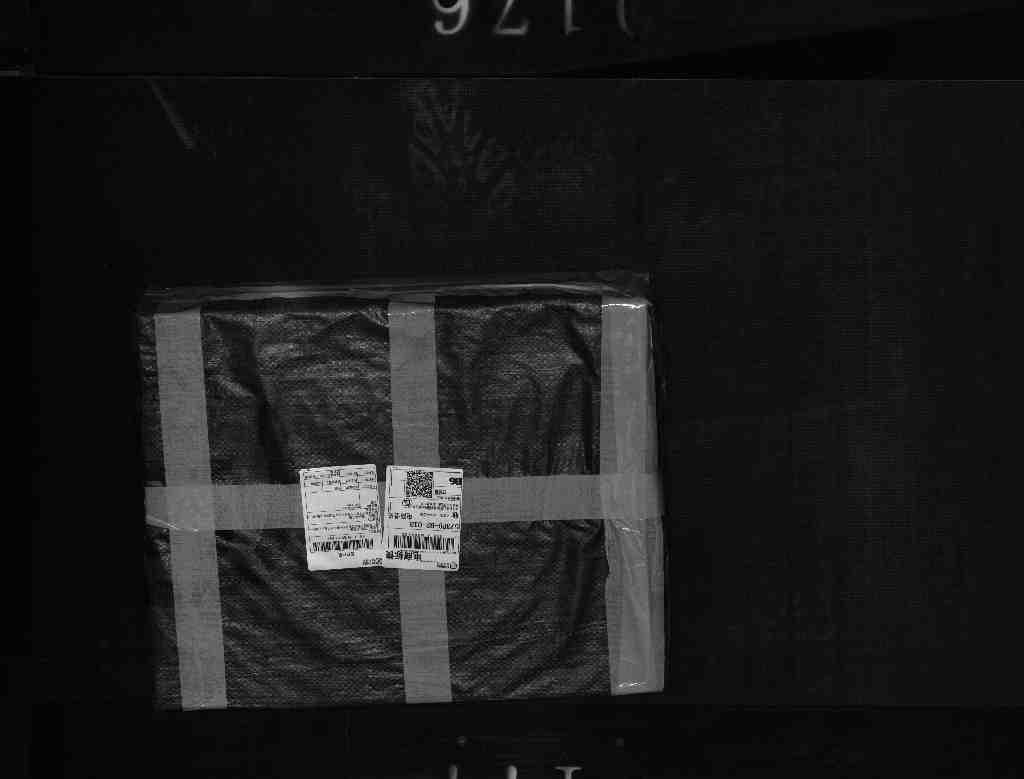box: (123, 268, 682, 710)
